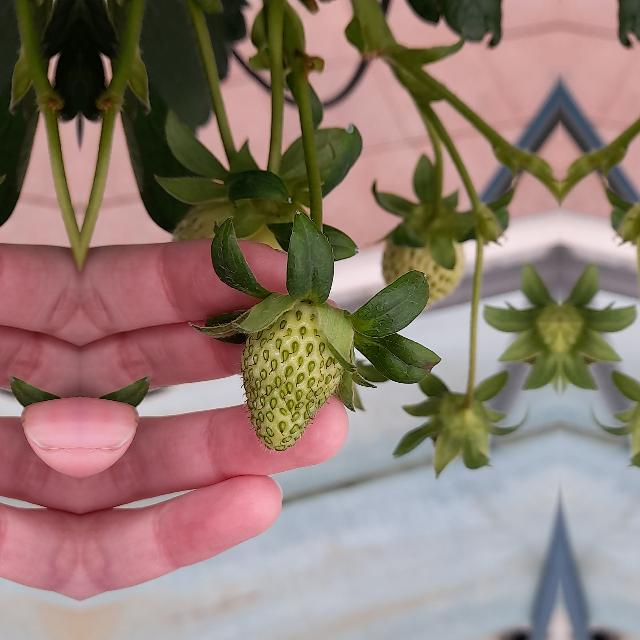Health_25: (241, 301, 345, 451)
